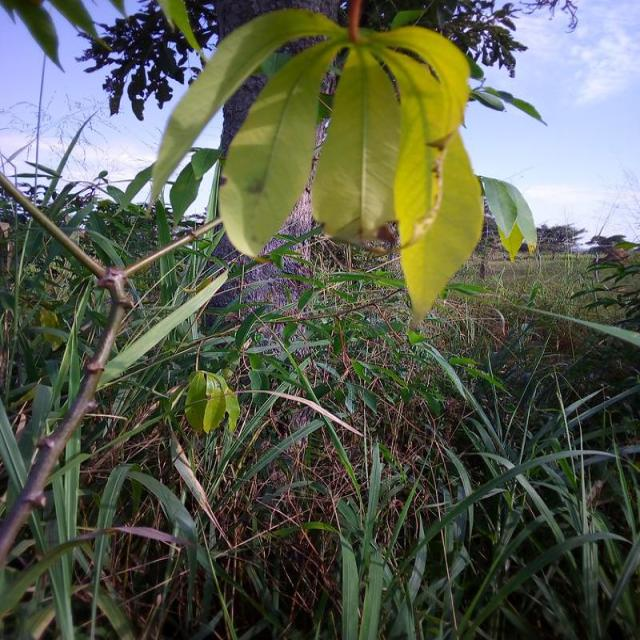cassava leaf: (146, 6, 344, 212), (216, 33, 342, 259), (395, 128, 484, 329)
